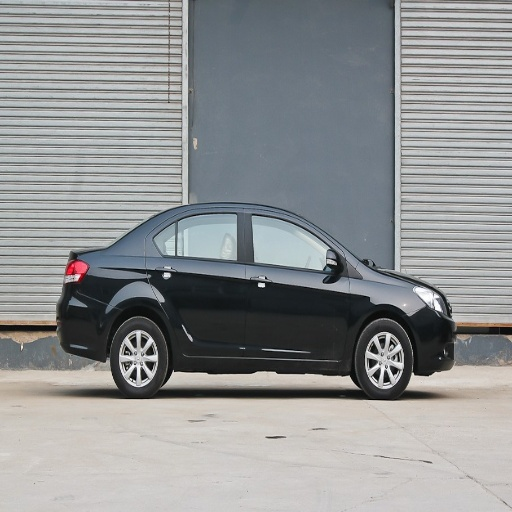back_right_door: (149, 208, 247, 353)
front_right_door: (248, 209, 349, 359)
